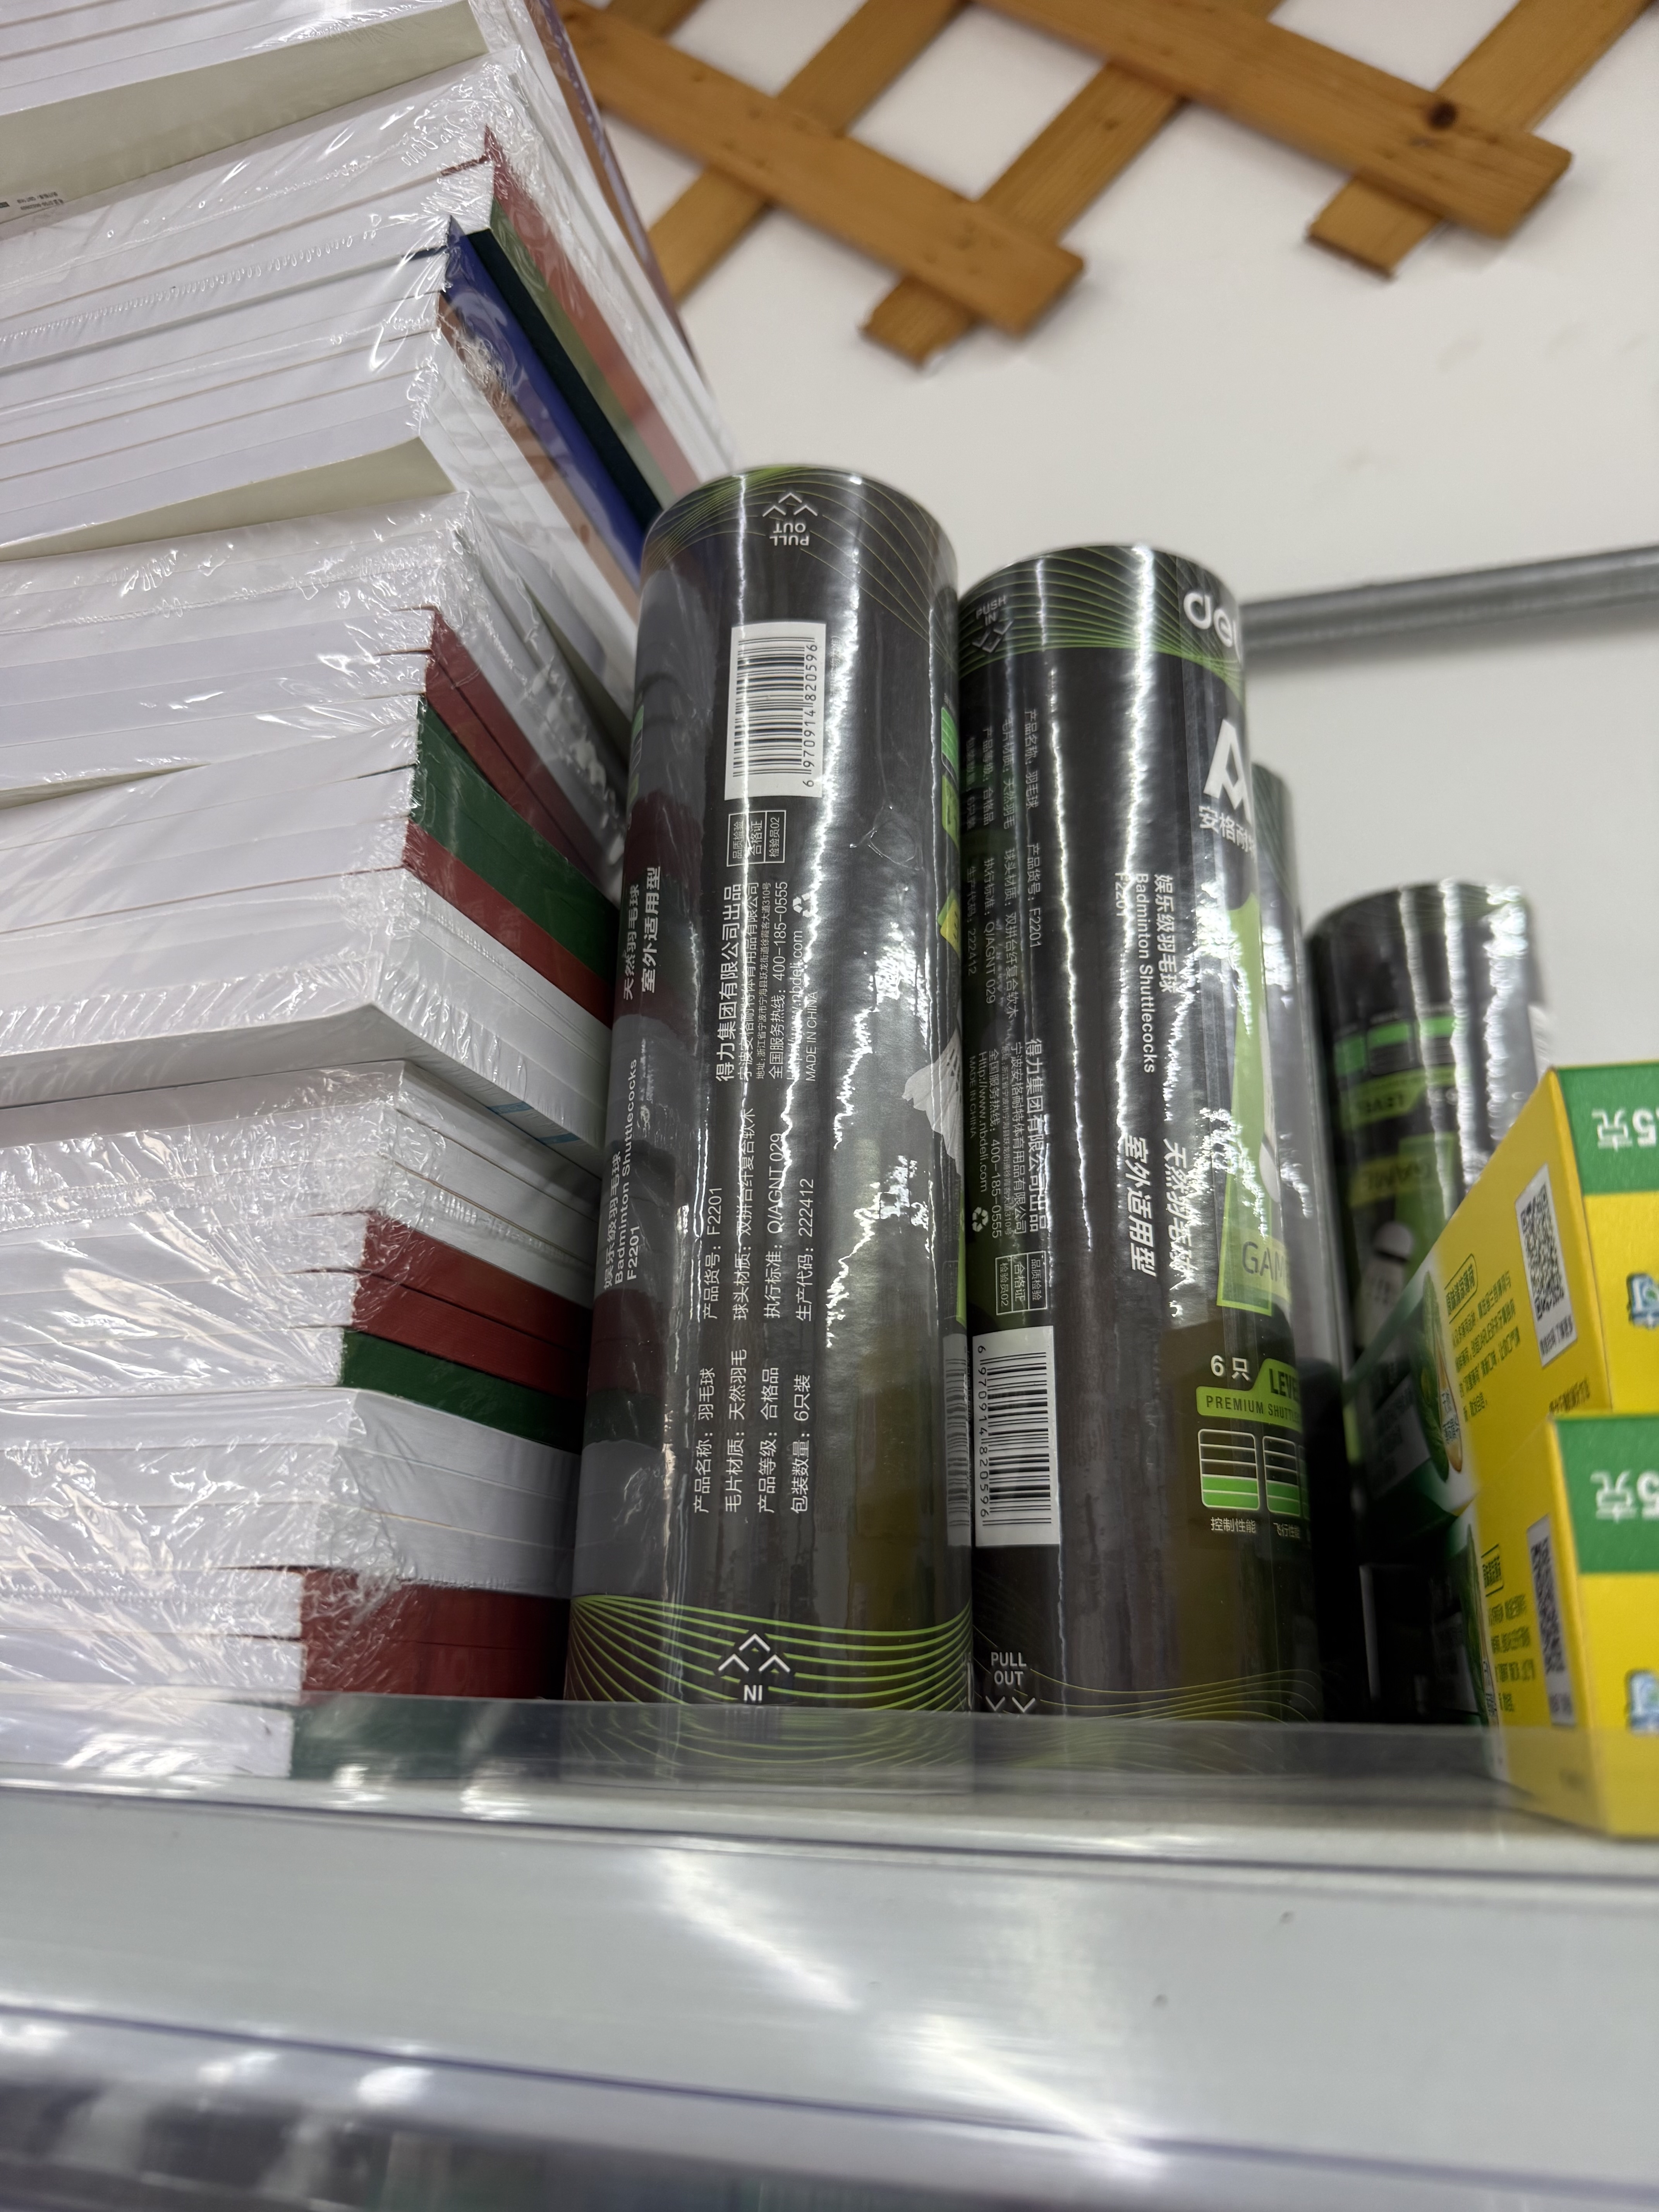bar: (974, 1348, 1060, 1541), (730, 622, 823, 782)
